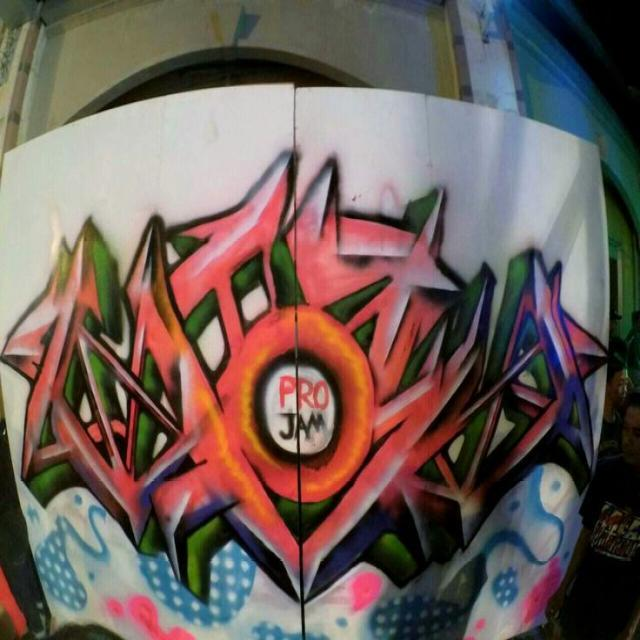-: (1, 151, 608, 617), (278, 372, 336, 448)
